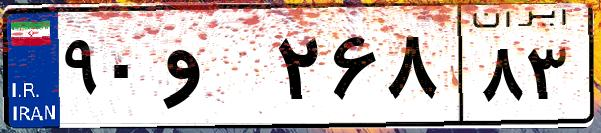0: (110, 28, 158, 98)
2: (270, 28, 330, 110)
3: (525, 38, 570, 115)
6: (330, 28, 385, 110)
8: (385, 28, 445, 110), (475, 38, 525, 113)
9: (57, 26, 110, 100)
و: (158, 20, 270, 120)
